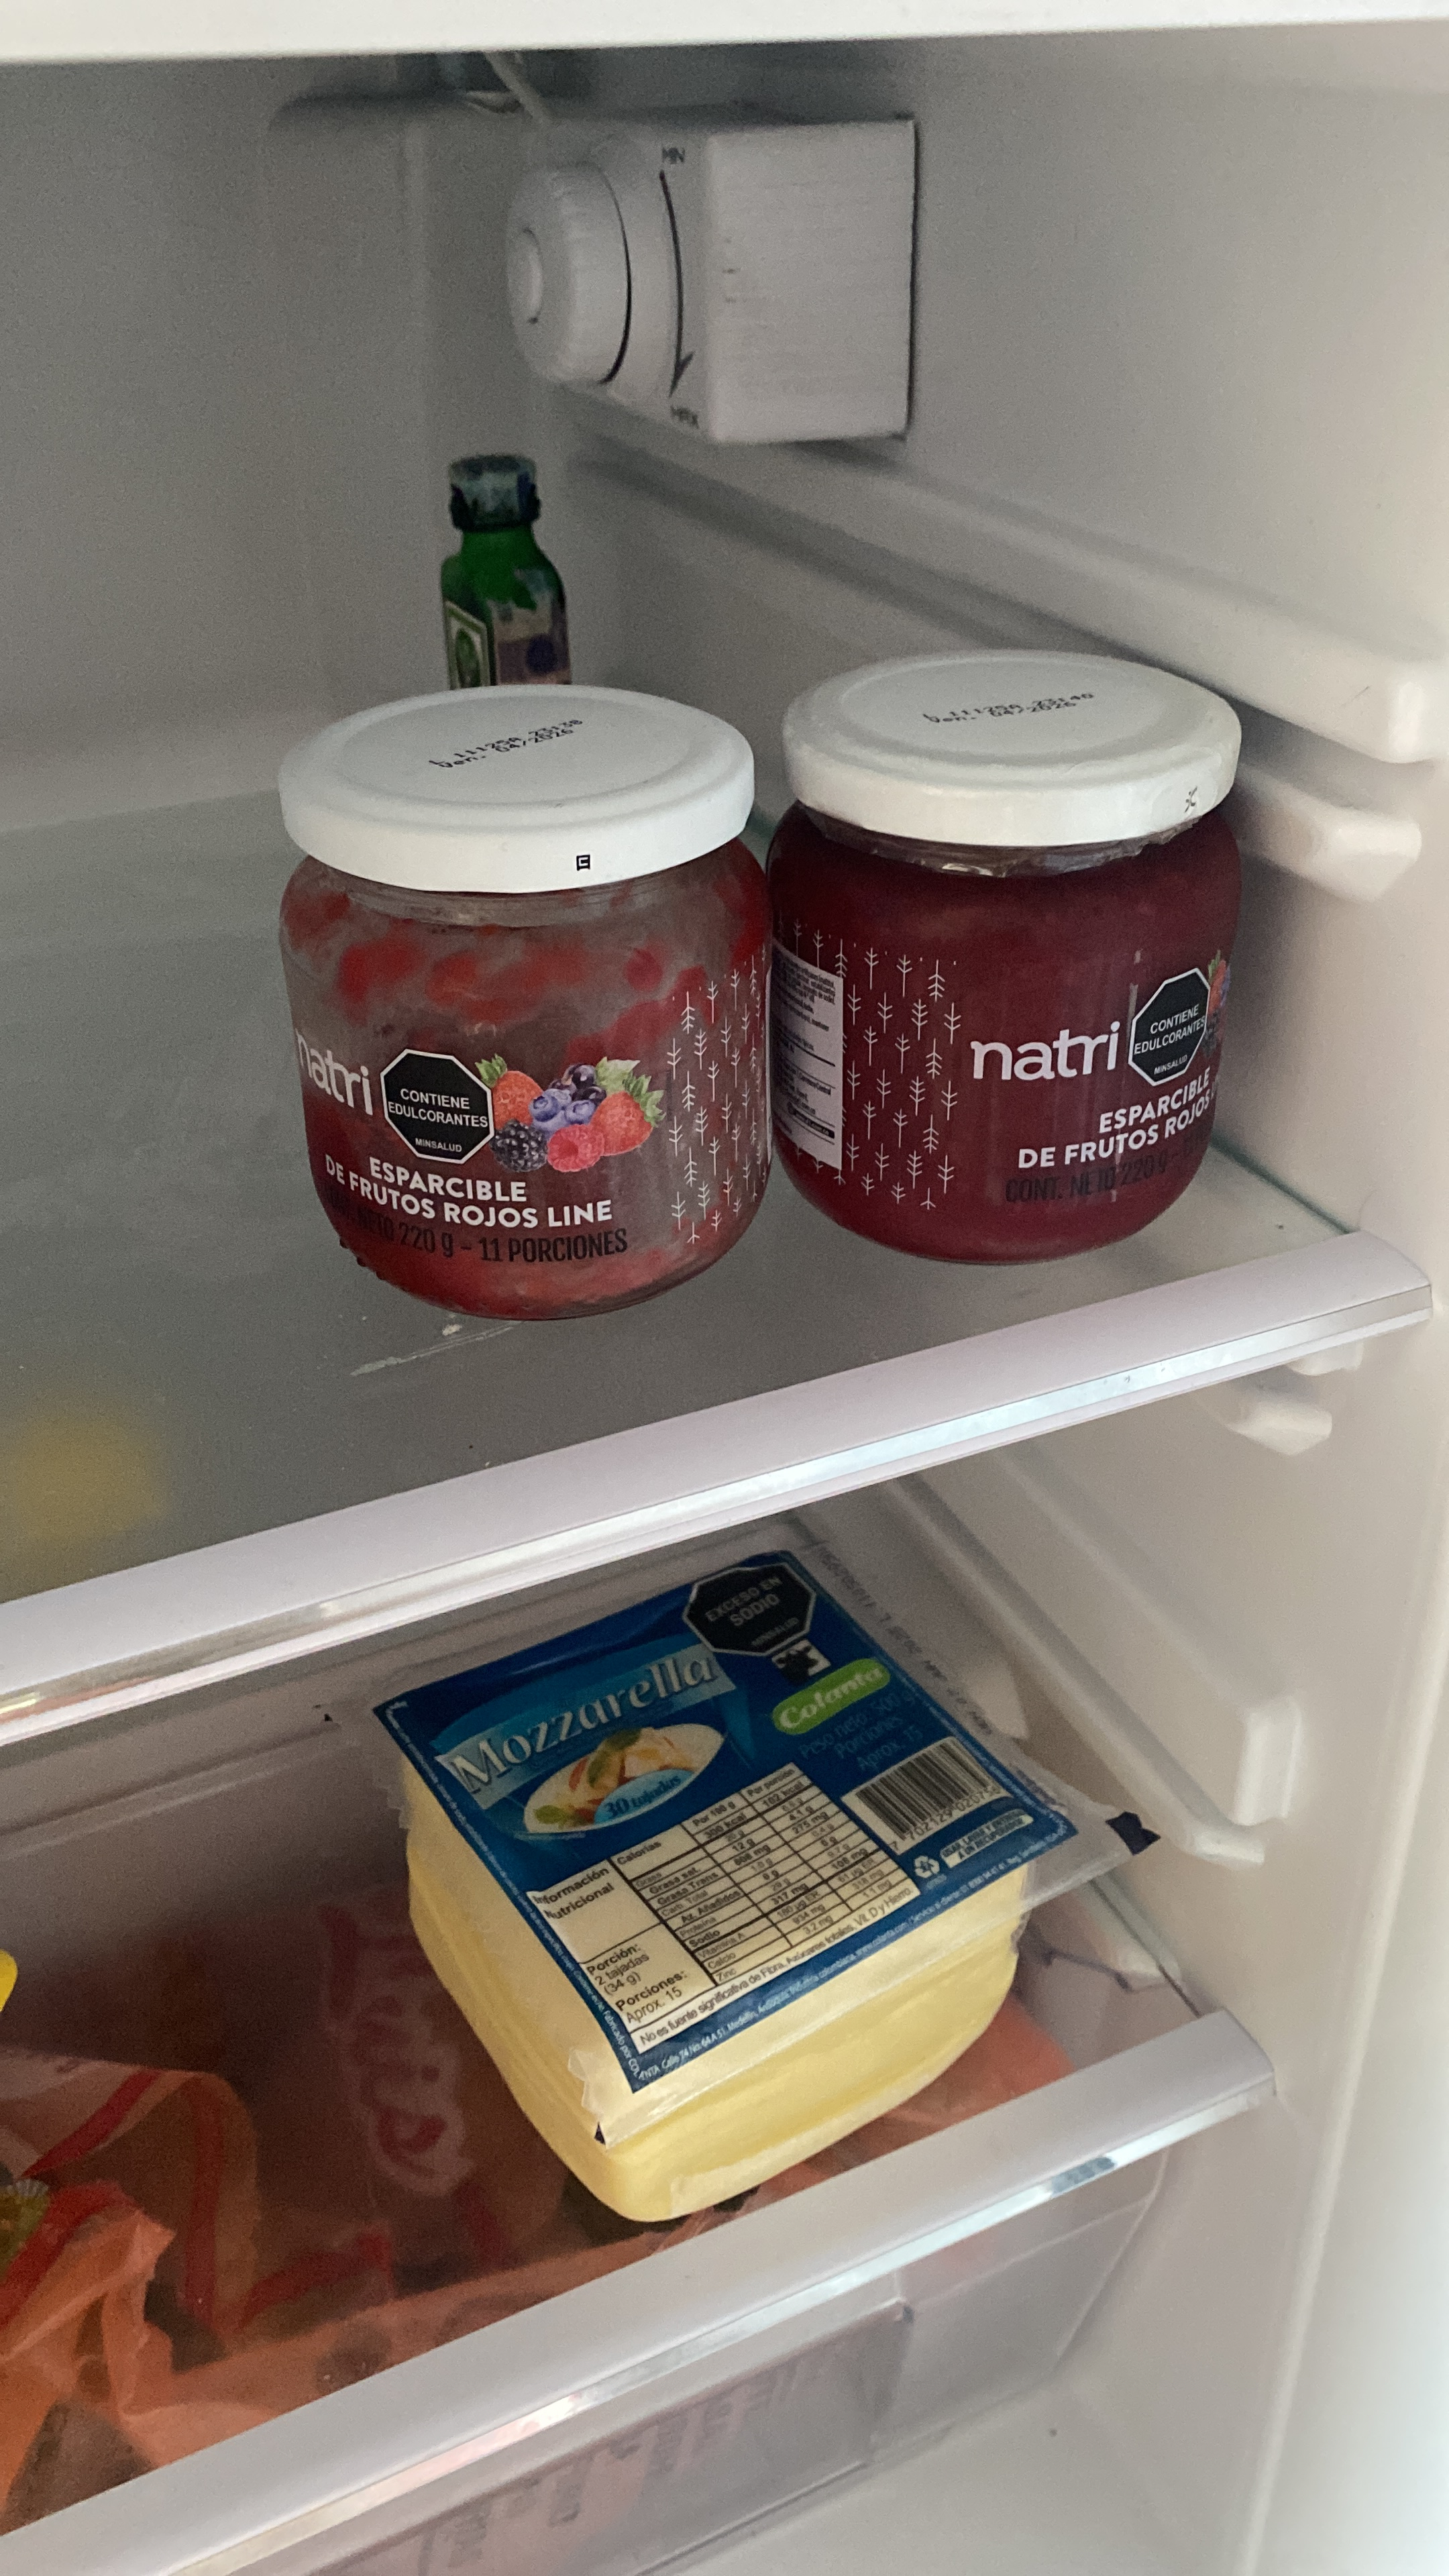Mermelada: (230, 683, 784, 1339), (757, 619, 1253, 1279)
